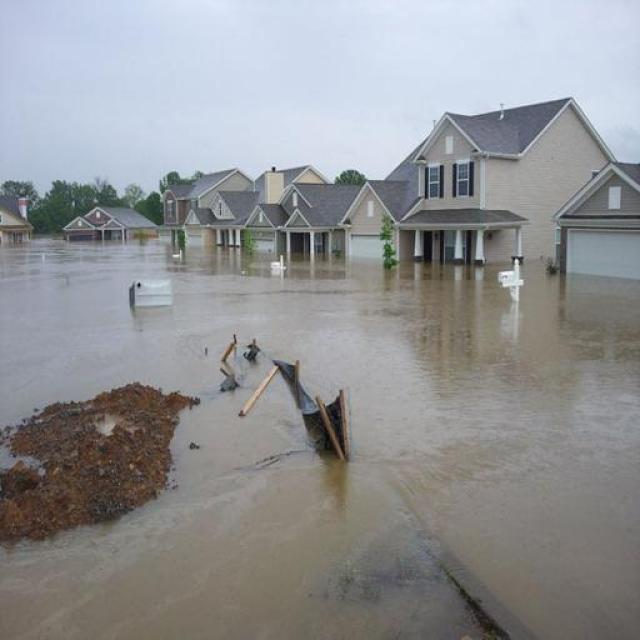puddle: (363, 299, 640, 528), (2, 513, 214, 640), (178, 419, 294, 640), (179, 256, 430, 347), (3, 248, 130, 391)
